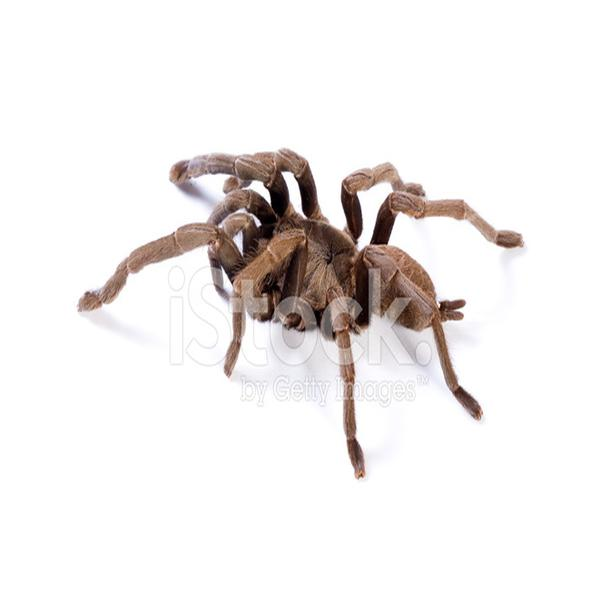Tarantula Spider: (100, 148, 532, 462)
